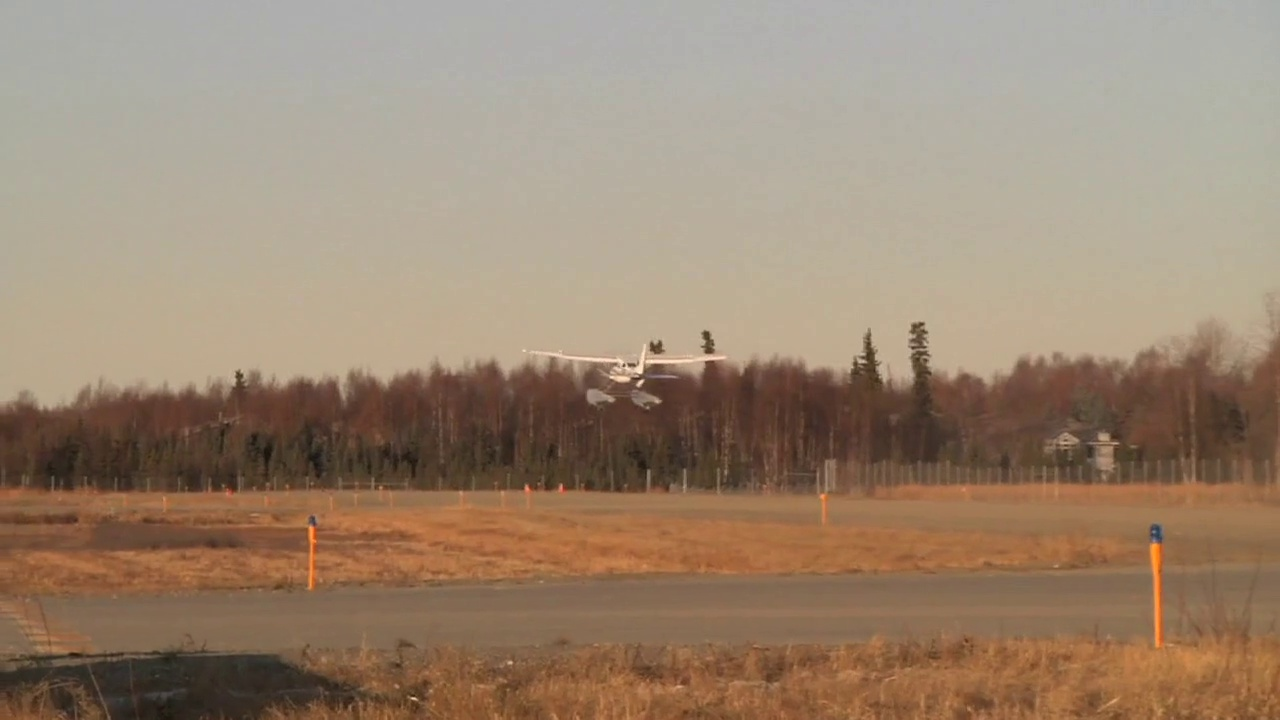plane: (518, 343, 725, 412)
